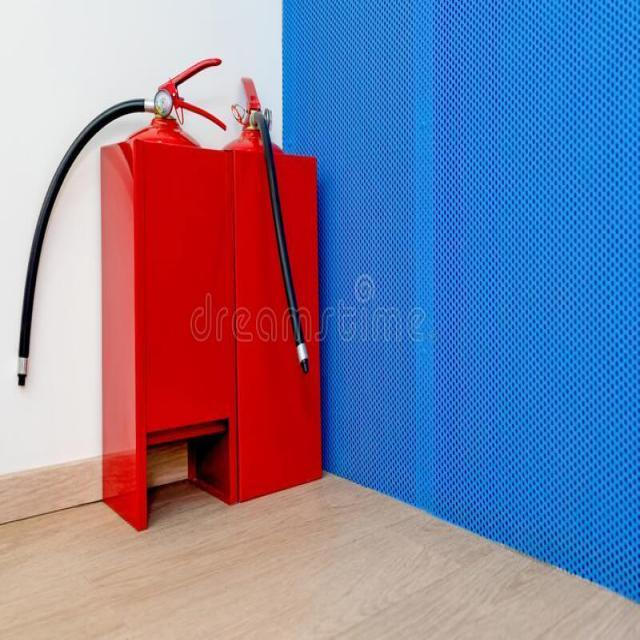FireExtinguisher: (15, 52, 229, 422), (220, 67, 311, 487)
